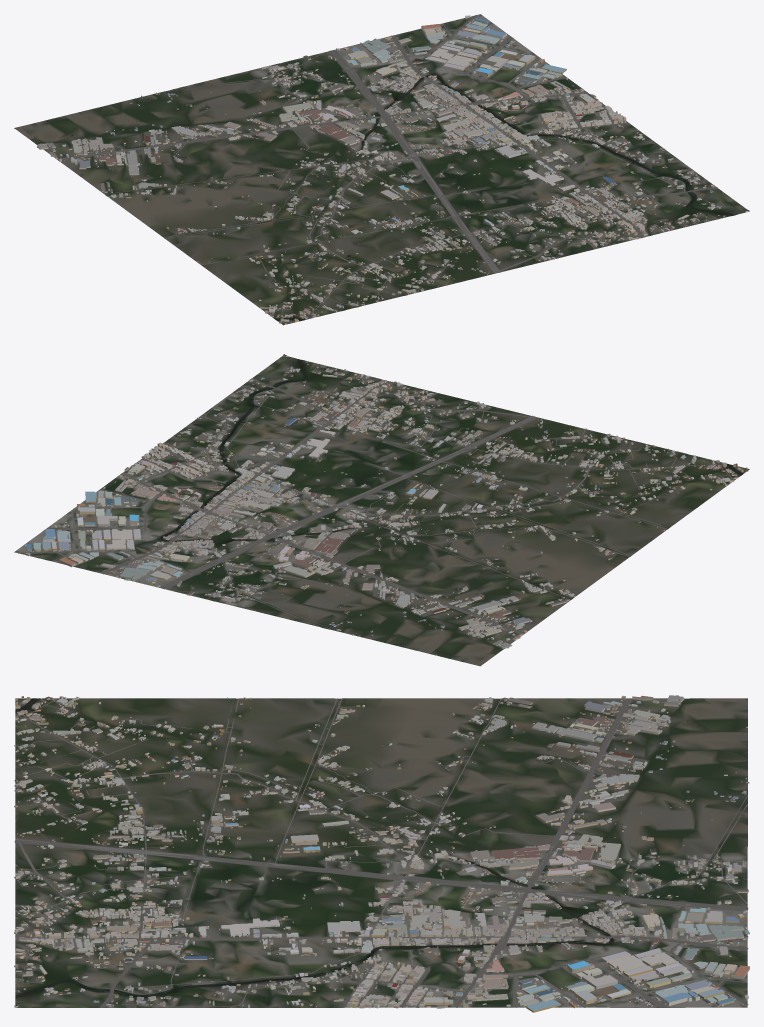
The picture shows the model from 3 angles, top to bottom: view 1: azimuth 30°, elevation 25°; view 2: azimuth 150°, elevation 25°; view 3: azimuth 270°, elevation 25°; orthographic projection. The views are drawn at different scales.
Parts seen in each view (by area): view 1: ground, buildings, roads, water; view 2: ground, buildings, roads, water; view 3: ground, buildings, roads, water.
Boxes of the visible parts, <box> form: ground: <box>14,14,747,325</box>; buildings: <box>37,15,749,324</box>; roads: <box>49,15,718,322</box>; water: <box>70,74,734,320</box>; ground: <box>14,356,749,666</box>; buildings: <box>19,354,748,655</box>; roads: <box>18,365,744,643</box>; water: <box>160,359,743,542</box>; ground: <box>15,698,747,1007</box>; buildings: <box>14,695,749,1012</box>; roads: <box>14,698,748,1007</box>; water: <box>15,698,689,998</box>.
Bounding box in the file's own units: 2863 × 23.24 × 2814.
